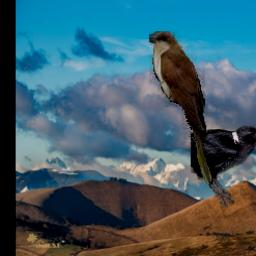Crow: (190, 125, 256, 208)
Cuckoo: (149, 31, 211, 184)
